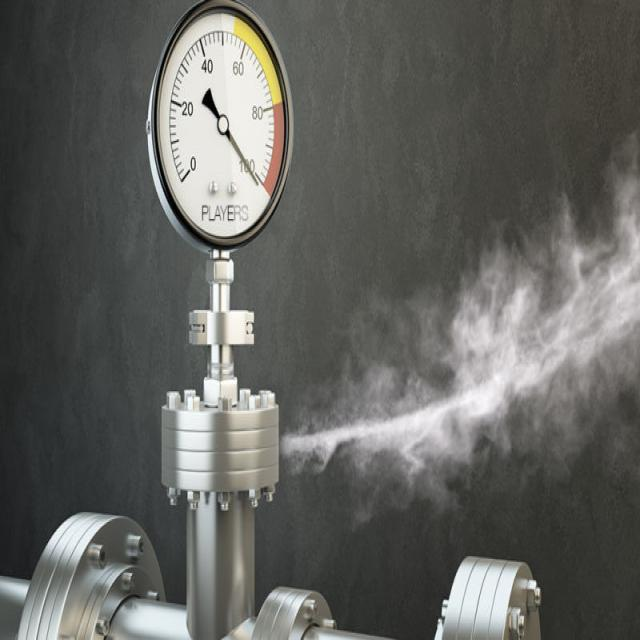Smoke: (280, 130, 640, 524)
